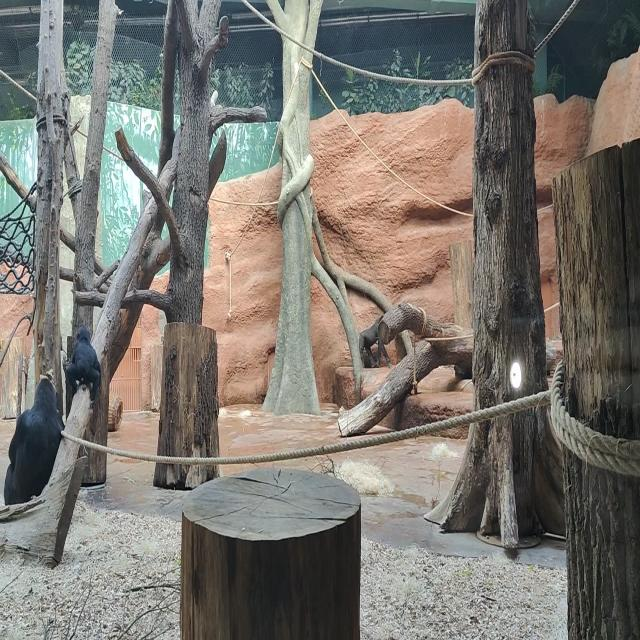monkey: (4, 378, 65, 506), (66, 324, 102, 400), (359, 315, 392, 368)
